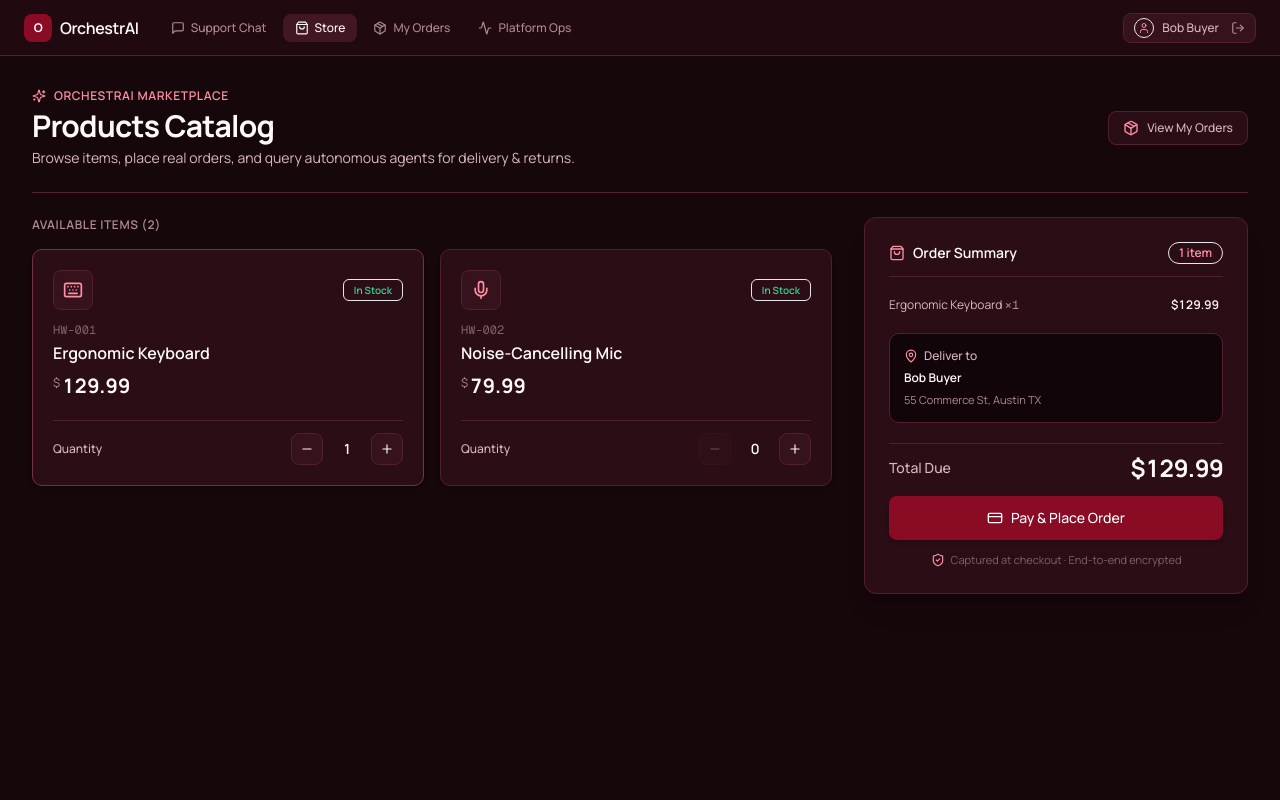
Scenario: StorePage › submits order placement and displays receipt with agent action
Later steps or results of the test are not shown.
Expected: the heading "Ergonomic Keyboard" is shown, [53,342,210,364]
Click the button with test id "store-checkout-btn".
click(1056, 518)  # box [889,496,1223,540]
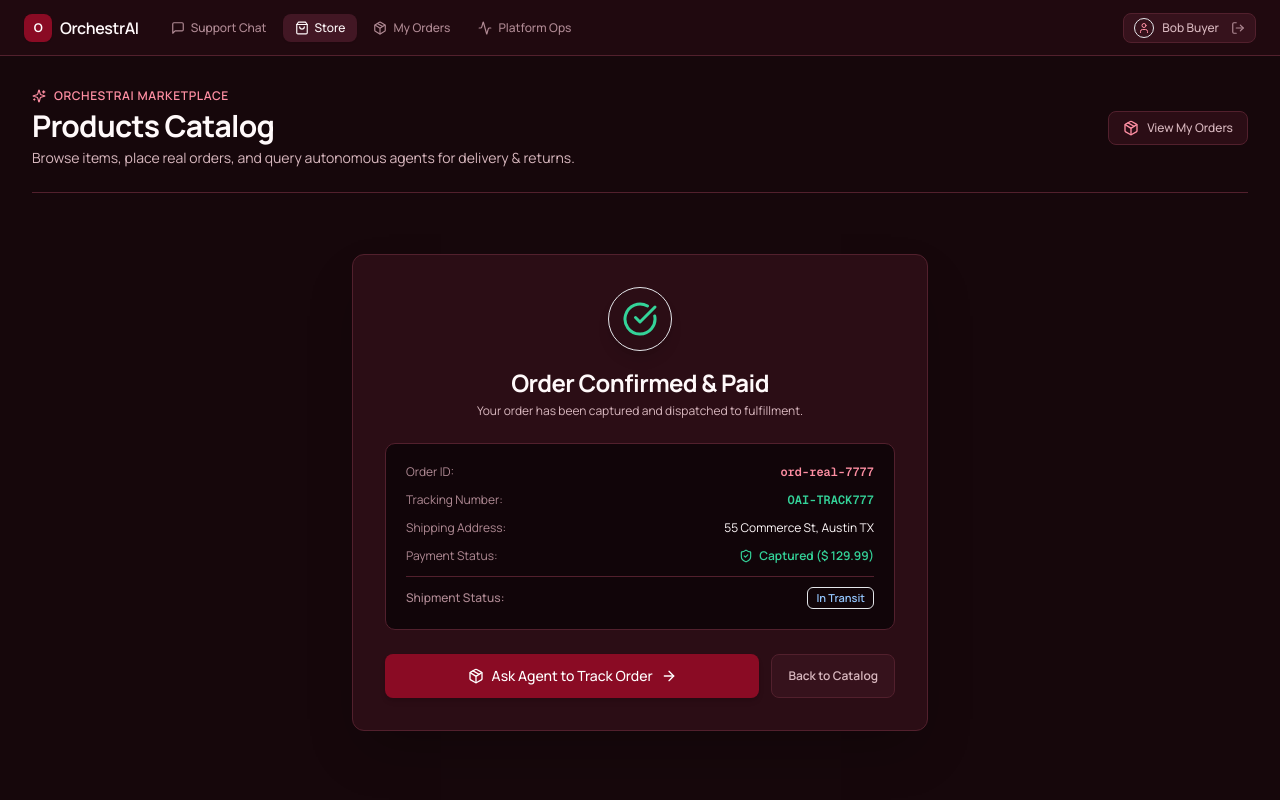
Expected: the element with test id "order-confirmation-card" is shown, [352,254,928,731]
Expected: the text with test id "receipt-order-id" reads "ord-real-7777", [780,464,874,480]
Expected: the text with test id "receipt-tracking-number" reads "OAI-TRACK777", [788,492,874,508]
